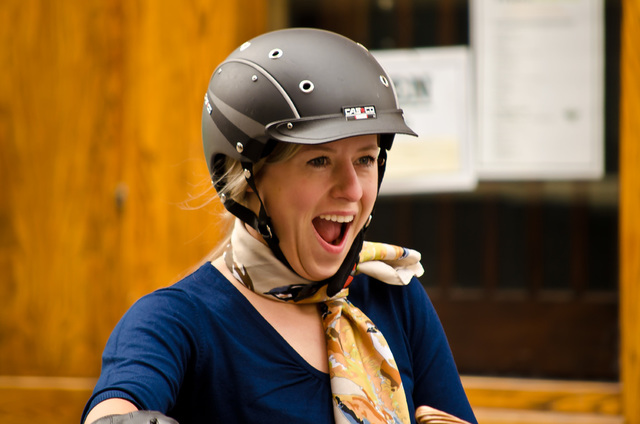helmet: (200, 31, 418, 153)
